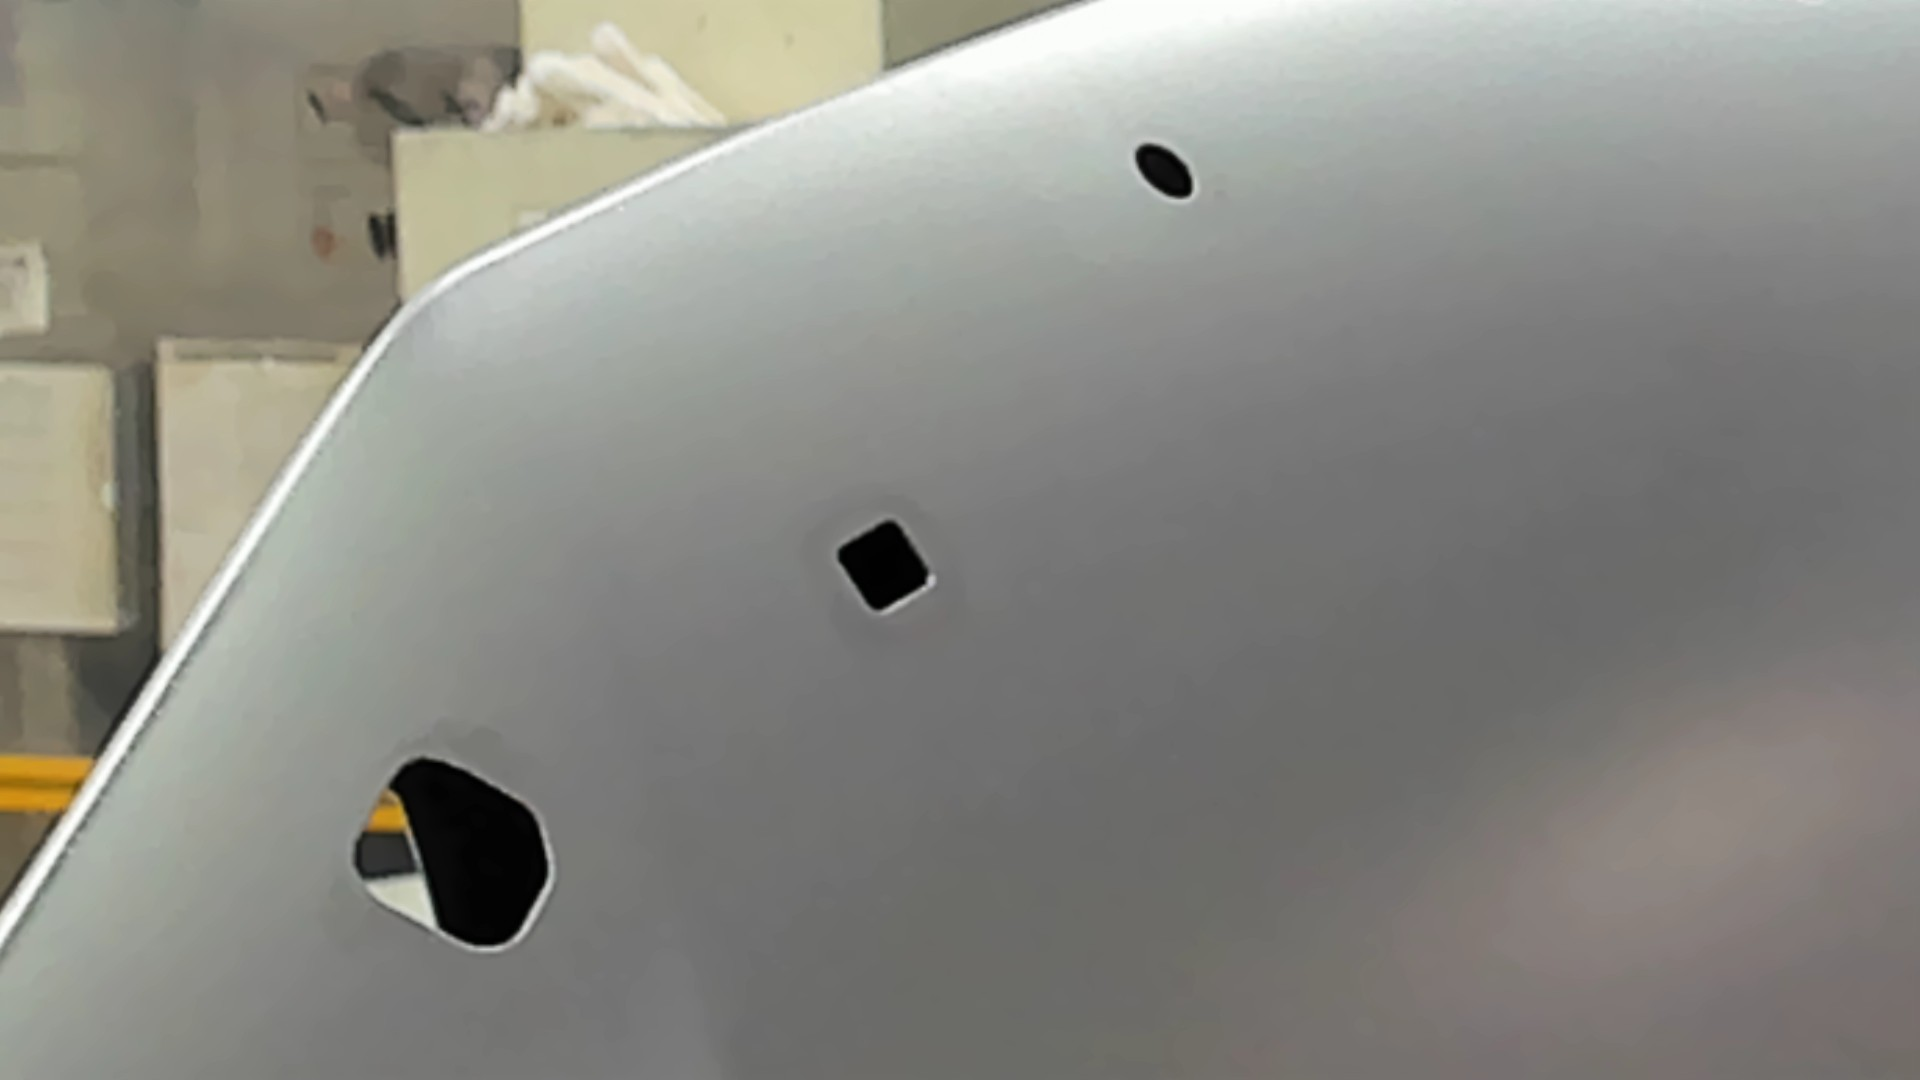chico: (1131, 137, 1197, 208)
grande: (345, 741, 560, 961)
mediano: (828, 513, 942, 622)
